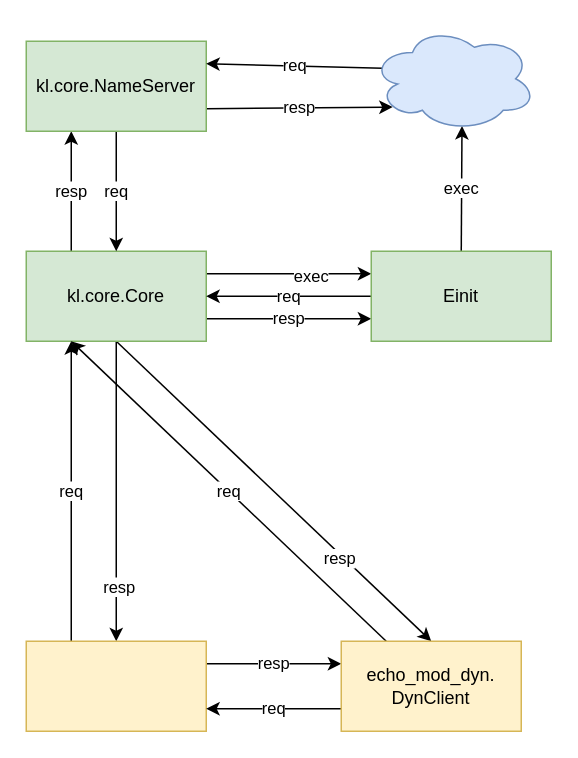
This 578x758 diagram has some shape labels left out. The shapes that lost their labels are listed below. From the top down, each one's box as (x1, y1, x2, y2) in pixels, then its label:
(370, 25, 536, 131): all
(25, 640, 206, 731): echo_mod_dyn. DynServer
